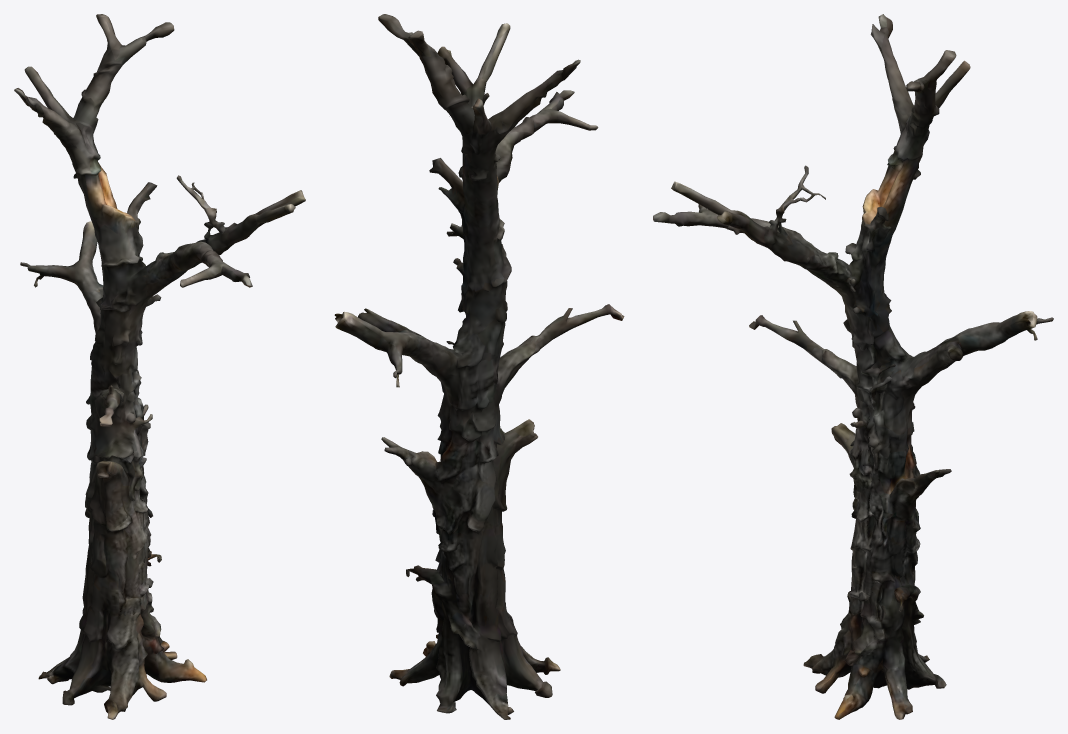
File: tree_dead.glb
The picture shows the model from 3 angles, left to right: view 1: azimuth 30°, elevation 25°; view 2: azimuth 150°, elevation 25°; view 3: azimuth 270°, elevation 25°; orthographic projection. The views are drawn at different scales.
Parts seen in each view (by area): view 1: tripo_node_27dbd3a7-0014-4aa7-b98d-130a01519f42; view 2: tripo_node_27dbd3a7-0014-4aa7-b98d-130a01519f42; view 3: tripo_node_27dbd3a7-0014-4aa7-b98d-130a01519f42.
Part boxes in pixels (<box>): tripo_node_27dbd3a7-0014-4aa7-b98d-130a01519f42: <box>14,14,305,719</box>; tripo_node_27dbd3a7-0014-4aa7-b98d-130a01519f42: <box>334,14,624,719</box>; tripo_node_27dbd3a7-0014-4aa7-b98d-130a01519f42: <box>653,14,1053,719</box>.
Bounding box in the file's own units: 0.3476 × 1 × 0.5628.
Materials: 1 (1 with a texture image).
